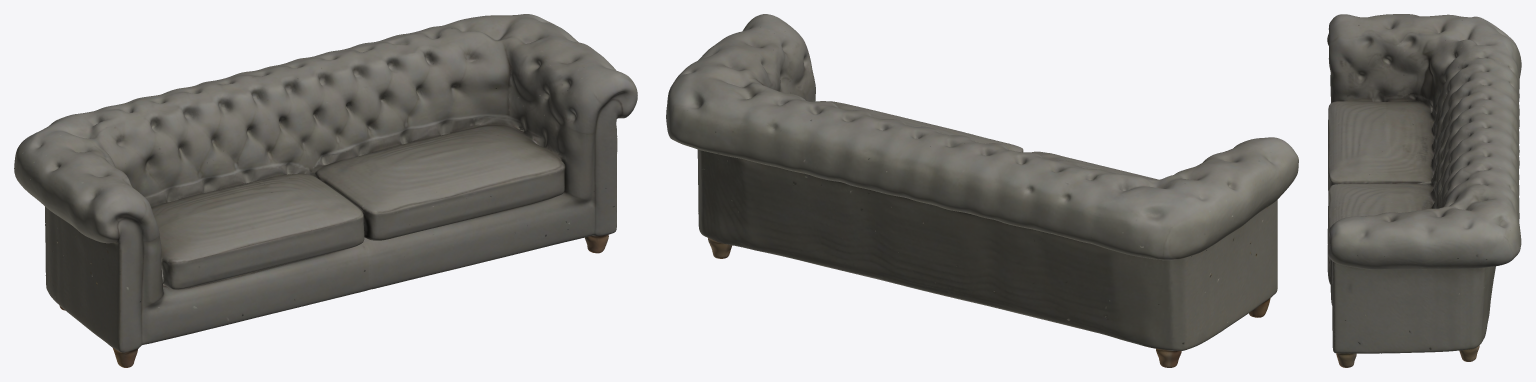
Rendered from Meshy_AI_Chesterfield_Elegance_0128093337_texture.glb.
3 views of the same model, side by side, from view 1: azimuth 30°, elevation 25°; view 2: azimuth 150°, elevation 25°; view 3: azimuth 270°, elevation 25° (orthographic). The views are drawn at different scales.
Bounding box in the file's own units: 2 × 0.6318 × 0.7264.
Materials: 1 (1 with a texture image).
